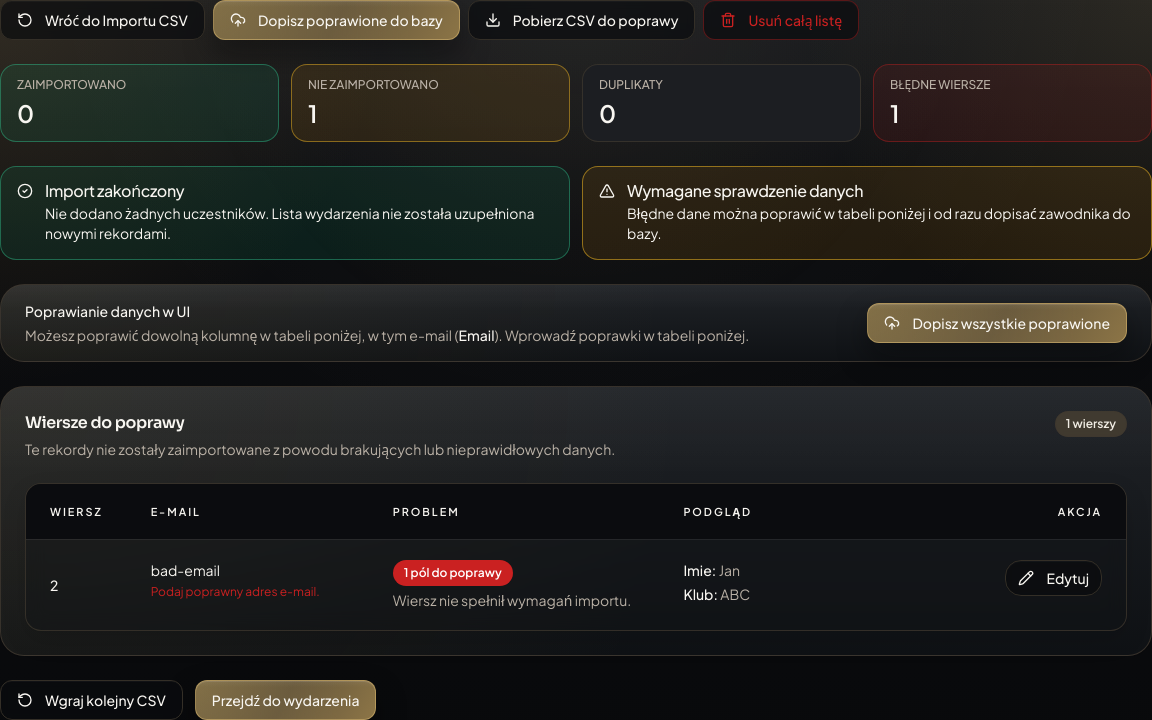
Test case: CsvImportSummary page › shows source CSV row values for invalid rows when API returns only row numbers
The image size is (1152, 720).
(page scrolled)
What coordinates should you click on to do the following:
click the button "Edytuj"
I would click on:
 (1054, 578)
Its box is [1005,560,1102,596].
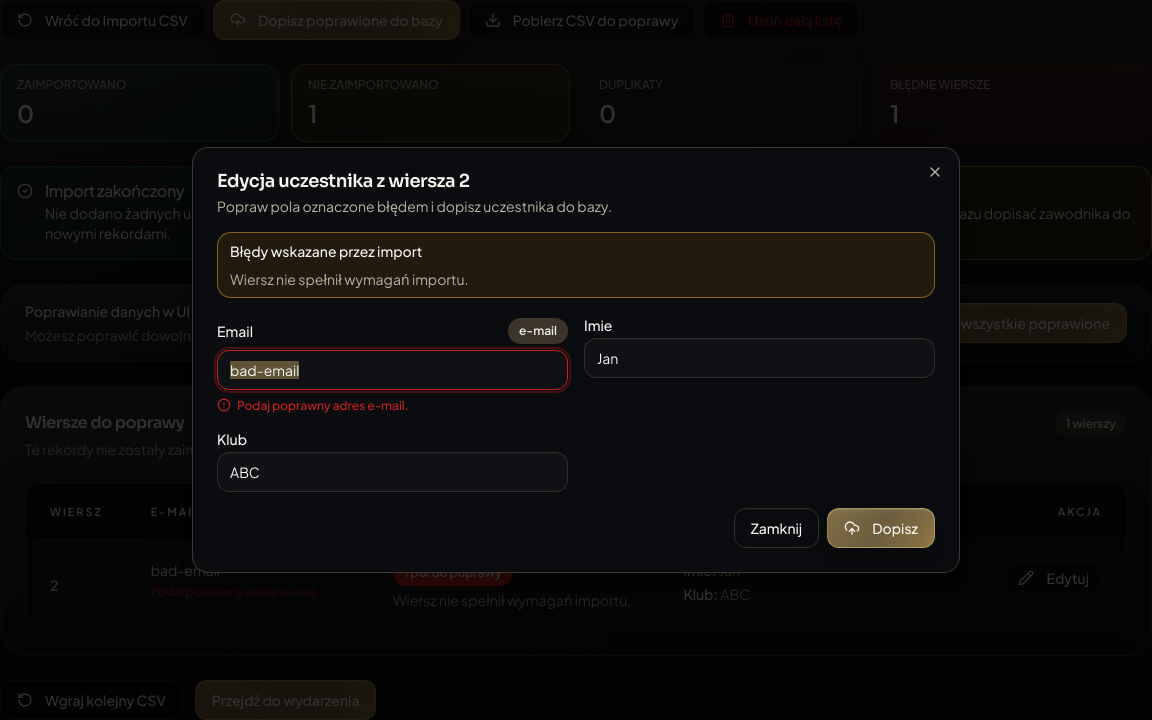
Expected: the field showing "bad-email" is shown, [217,350,568,390]
Expected: the field showing "Jan" is shown, [584,338,935,378]
Expected: the field showing "ABC" is shown, [217,452,568,492]
